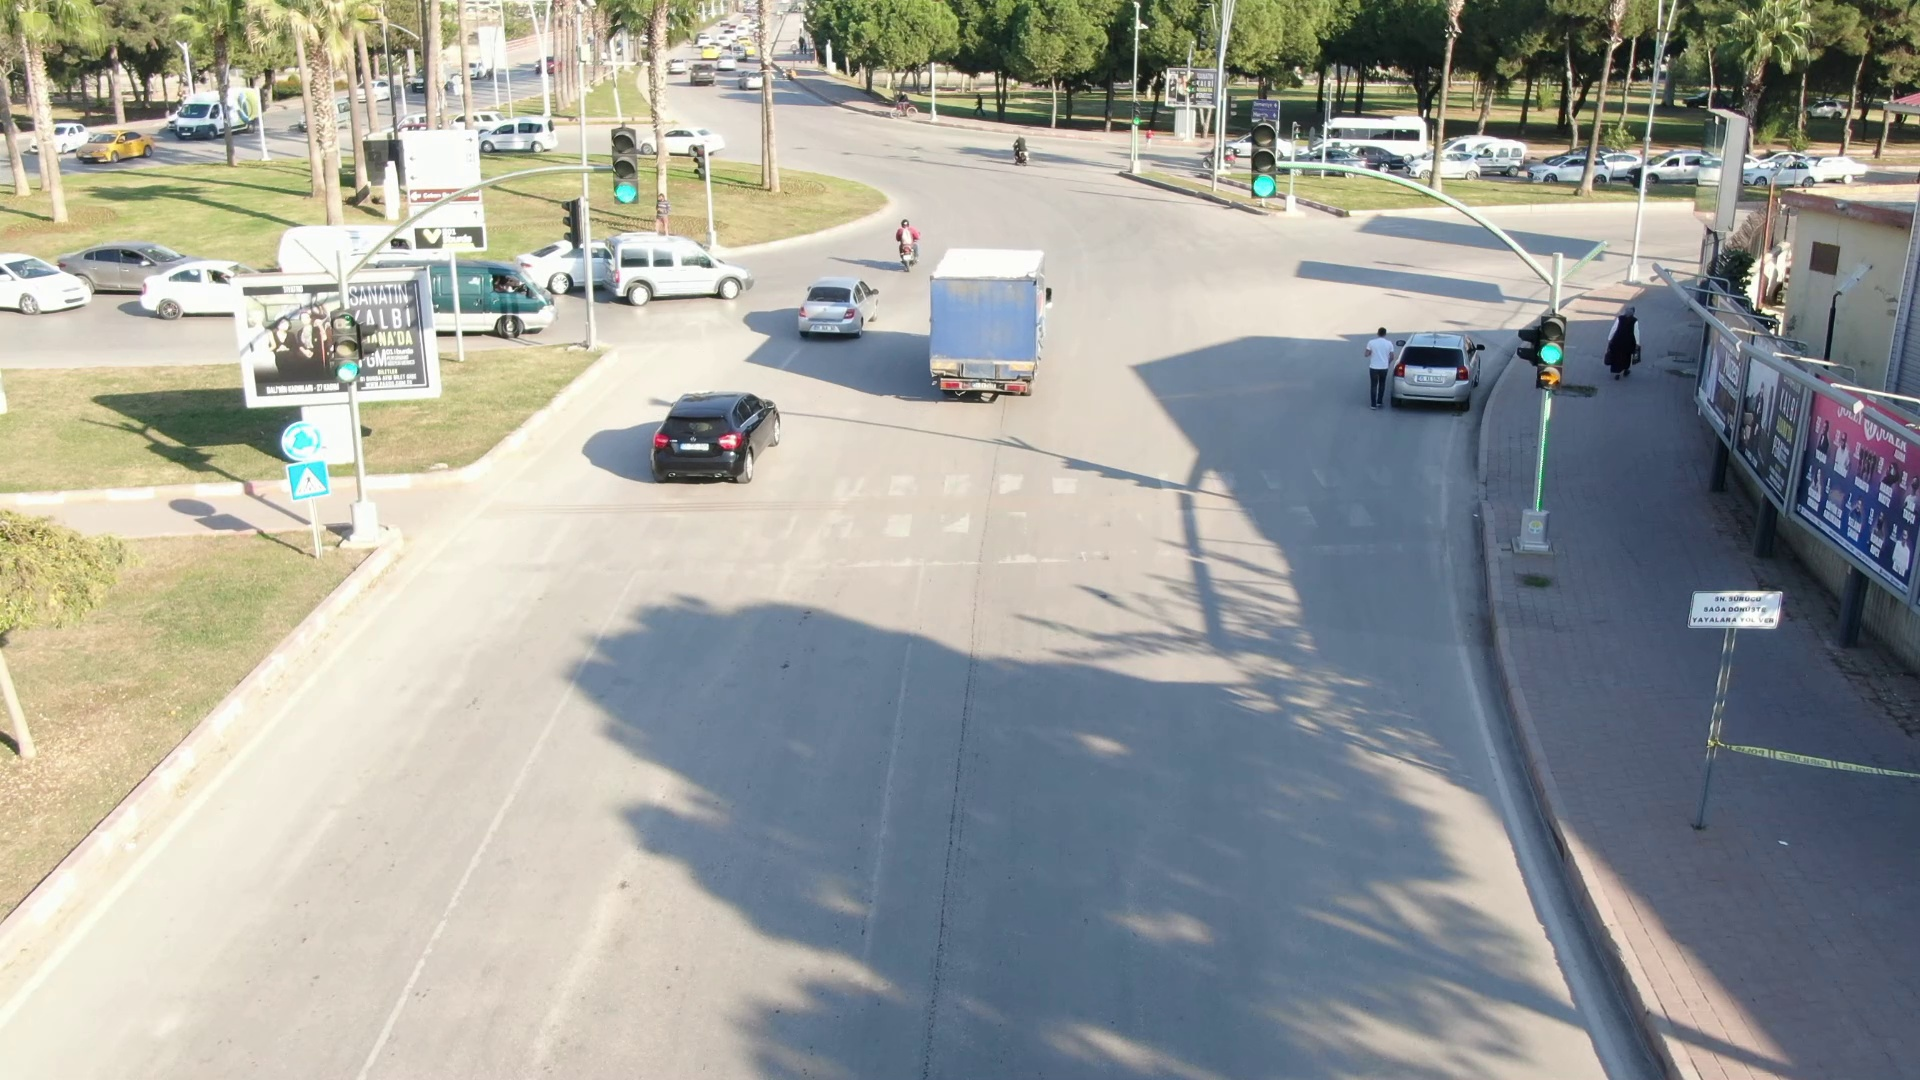car: (922, 239, 1068, 400), (631, 375, 797, 493), (597, 221, 755, 312), (429, 252, 563, 344), (51, 233, 194, 319), (1389, 325, 1495, 407), (786, 270, 880, 338), (166, 83, 277, 136), (66, 113, 155, 173), (473, 105, 564, 160), (636, 119, 724, 167), (1522, 152, 1611, 194), (684, 61, 719, 88)
person: (1601, 301, 1647, 382), (1361, 323, 1392, 413)
